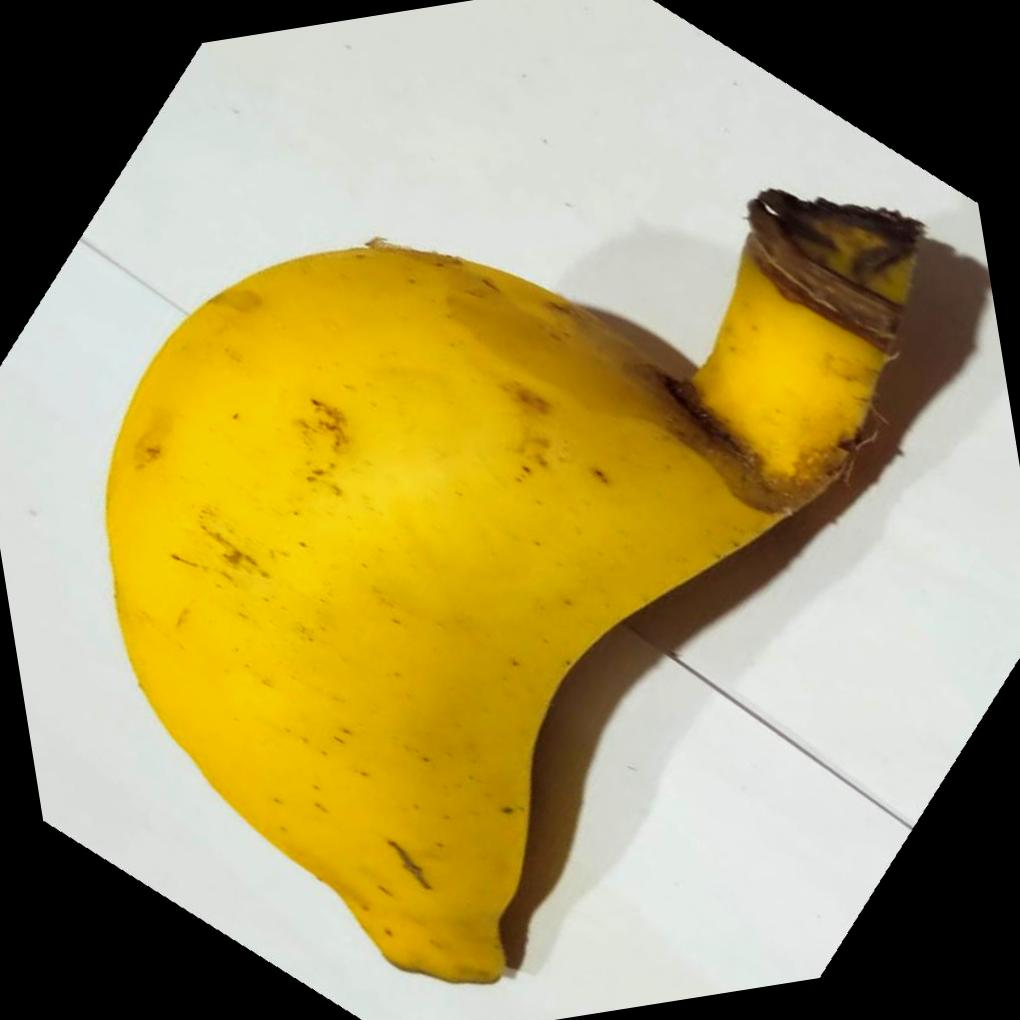Banana Ripe: (76, 157, 1015, 1014)
